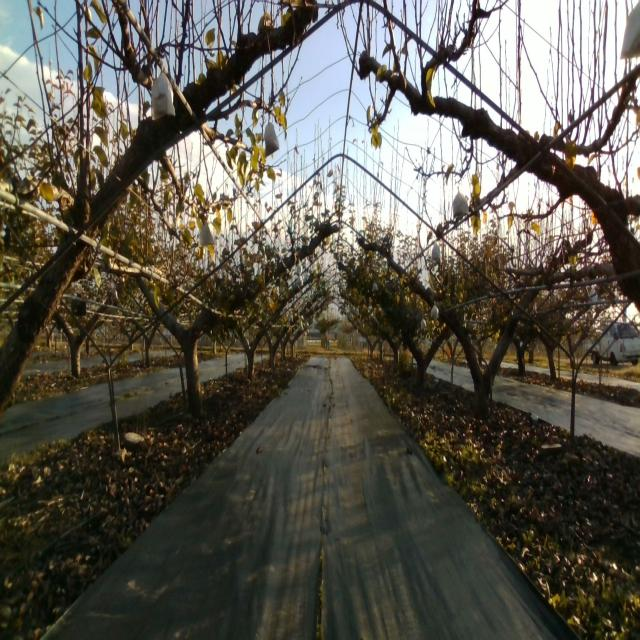pearbags: (150, 61, 176, 121), (264, 120, 280, 156), (452, 186, 470, 218), (197, 220, 217, 247), (430, 241, 442, 263)
